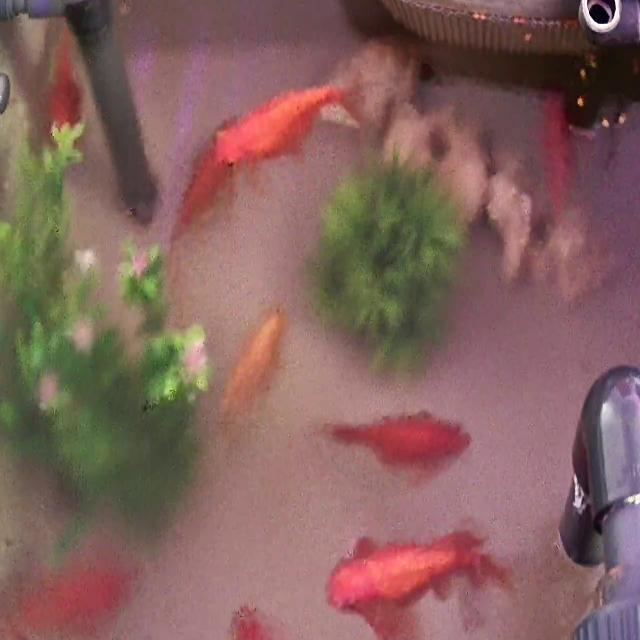fish: (335, 529, 500, 640), (0, 549, 142, 640), (213, 81, 344, 171), (325, 409, 466, 469), (217, 305, 284, 428), (172, 129, 237, 244), (44, 26, 84, 151), (539, 88, 575, 224)
